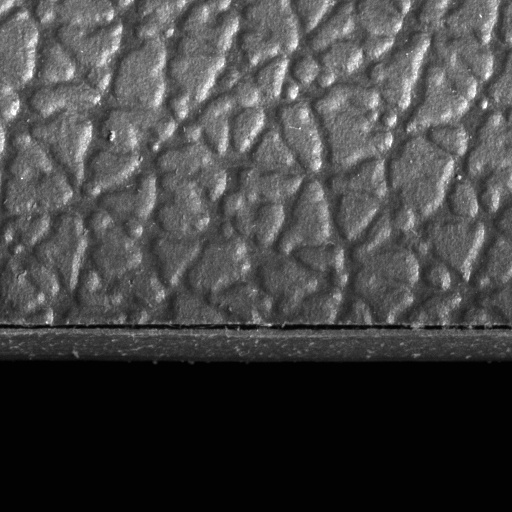jiaofeng: (0, 317, 413, 338), (423, 319, 511, 339)
